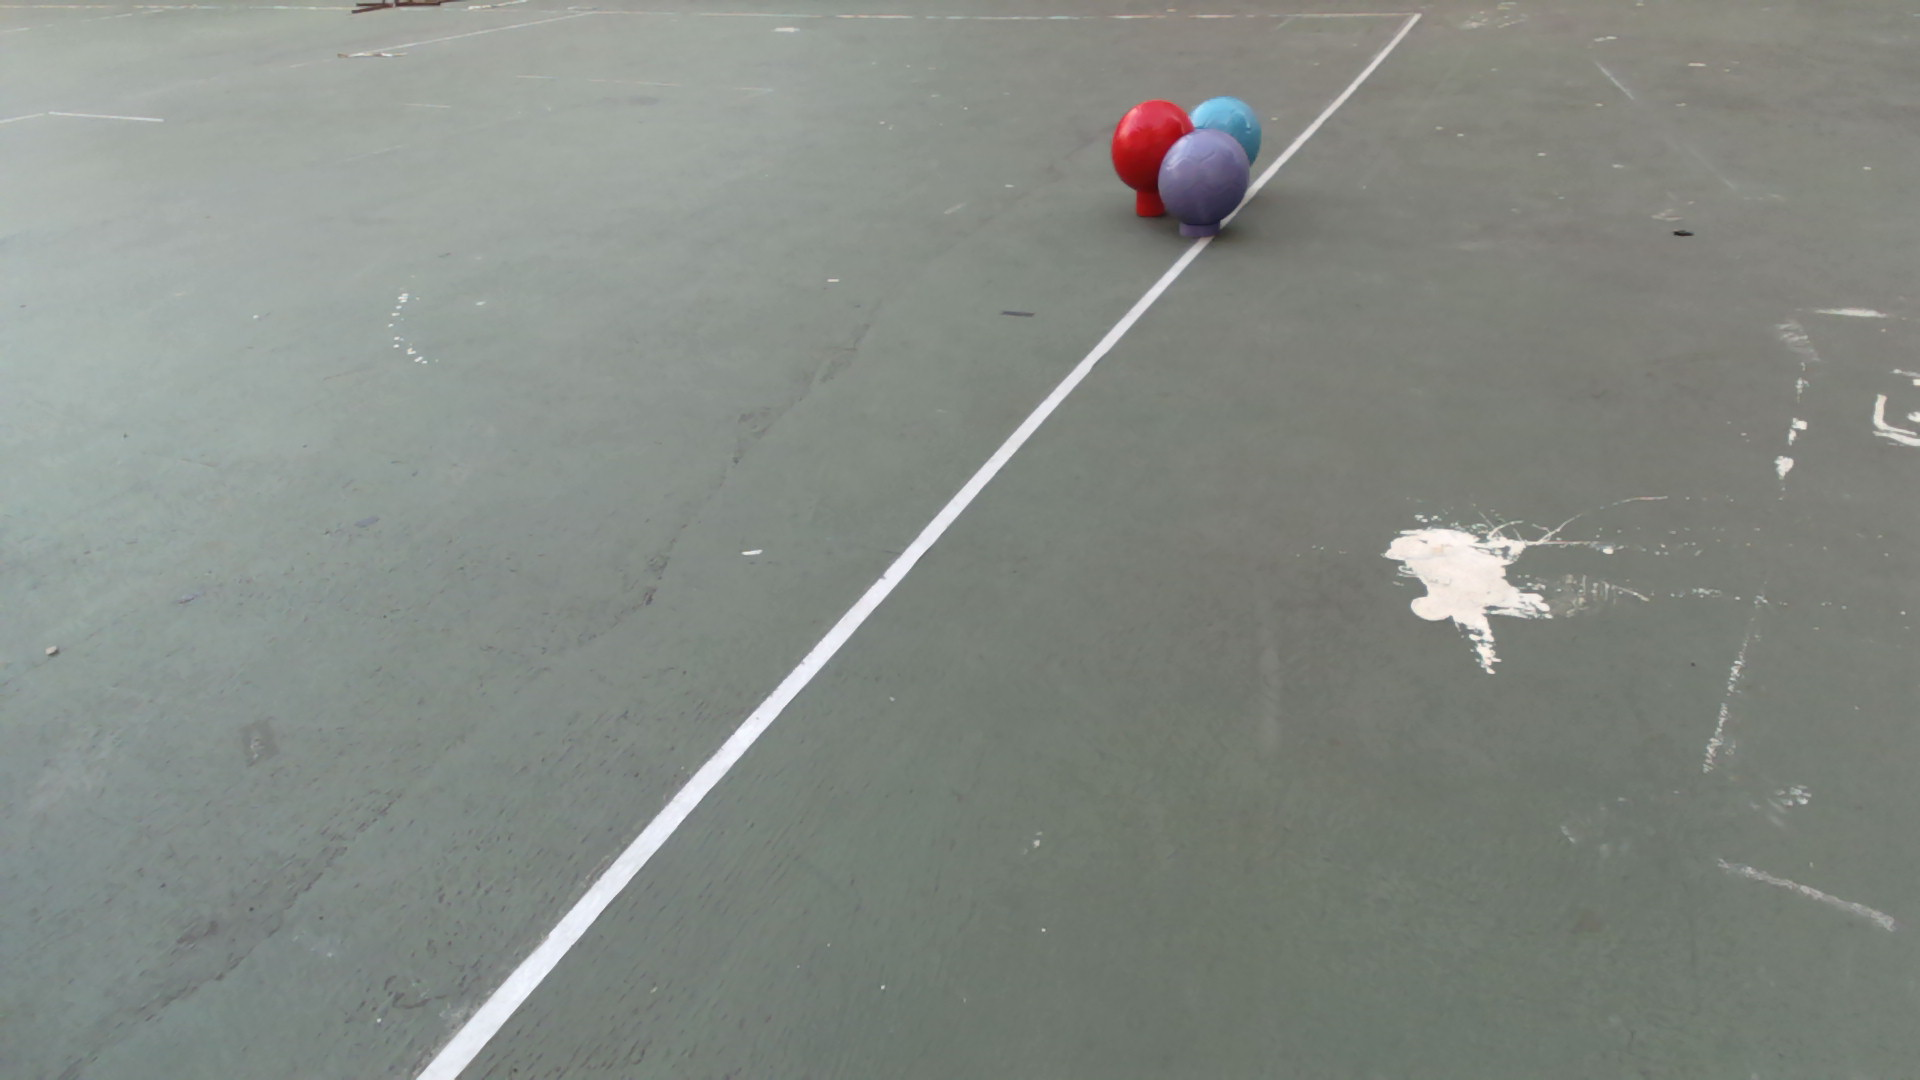Blue ball: (1187, 94, 1262, 152)
Purple ball: (1156, 129, 1249, 224)
Red ball: (1109, 98, 1192, 187)
